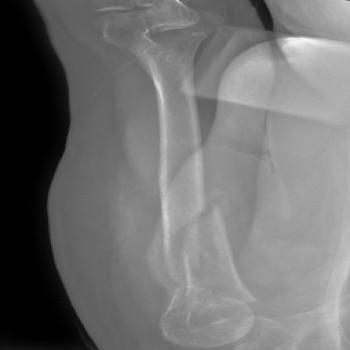Fracture: (152, 199, 236, 243), (152, 139, 218, 189)
